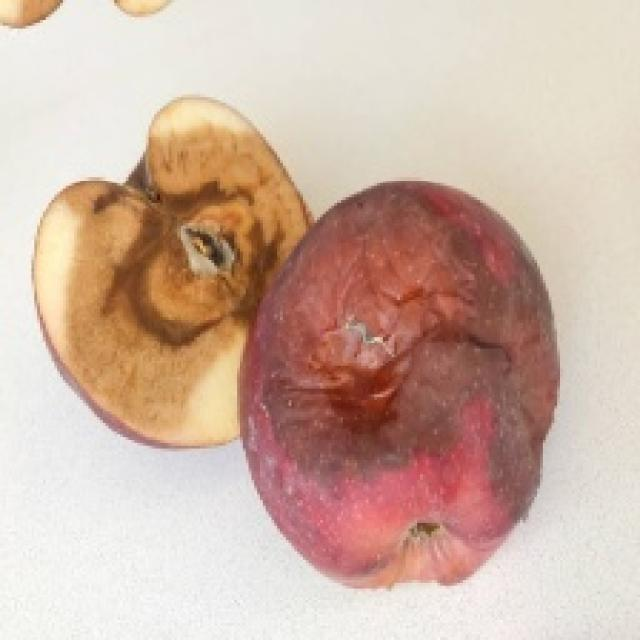rotten_apple: (250, 184, 558, 588), (32, 99, 253, 440)
